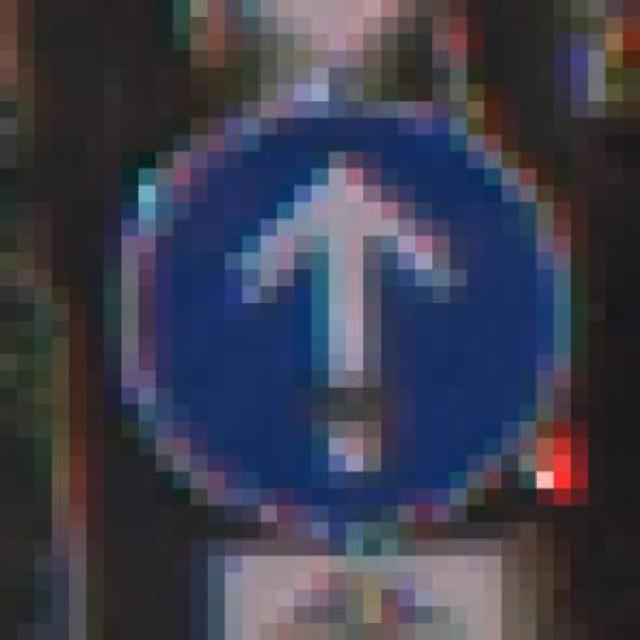Straight Ahead Only: (69, 101, 588, 539)
